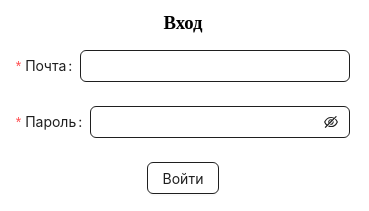
Scenario: LoginForm tests › shows validation error for invalid email
Type "invalid-email" into the field named "email" at (215, 66), box [80,50,350,82]
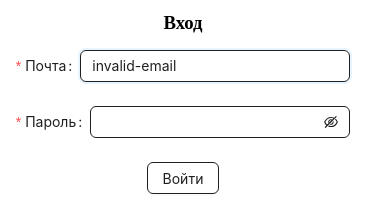
Click the button "Войти" at (183, 178), box [147,162,220,194]
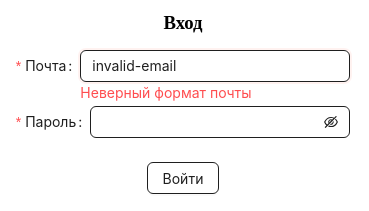
Expected: the text "Неверный формат почты" is shown, [80,84,252,101]
